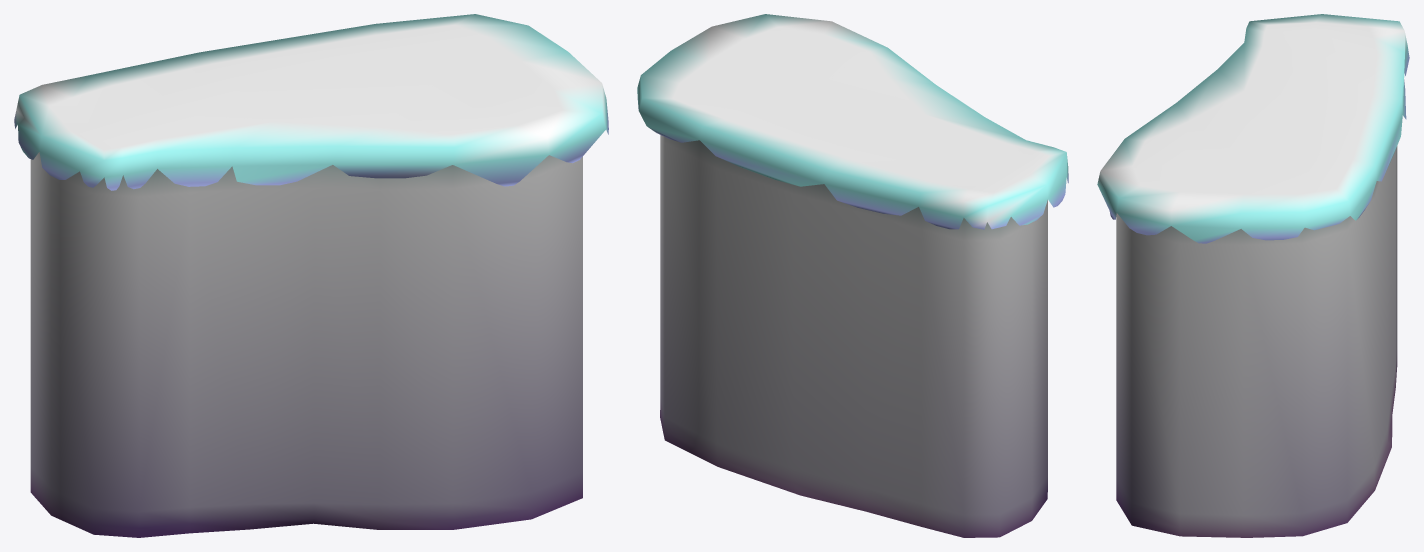
File: Block_01_H2_grass.fbx
The picture shows the model from 3 angles, left to right: view 1: azimuth 30°, elevation 25°; view 2: azimuth 150°, elevation 25°; view 3: azimuth 270°, elevation 25°; orthographic projection. The views are drawn at different scales.
Parts seen in each view (by area): view 1: Rock-Base-col.001, GrassLid.001; view 2: Rock-Base-col.001, GrassLid.001; view 3: Rock-Base-col.001, GrassLid.001.
Boxes of the visible parts, left/top/right/bottom form: Rock-Base-col.001: left=30, top=152, right=582, bottom=537; GrassLid.001: left=14, top=14, right=608, bottom=190; Rock-Base-col.001: left=660, top=135, right=1047, bottom=537; GrassLid.001: left=637, top=14, right=1068, bottom=229; Rock-Base-col.001: left=1116, top=146, right=1397, bottom=537; GrassLid.001: left=1097, top=14, right=1409, bottom=243.
Size of the model in its own units: 809 by 618 by 522.
